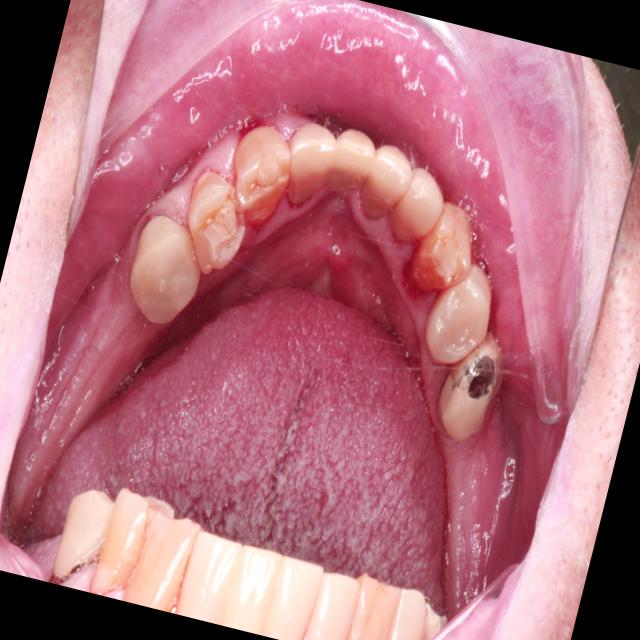tooth: (114, 200, 217, 337), (423, 319, 524, 454), (411, 248, 508, 379), (400, 182, 491, 309), (171, 162, 261, 285), (214, 115, 304, 237), (381, 154, 457, 259), (274, 112, 342, 216), (354, 135, 423, 233), (320, 119, 382, 202)
